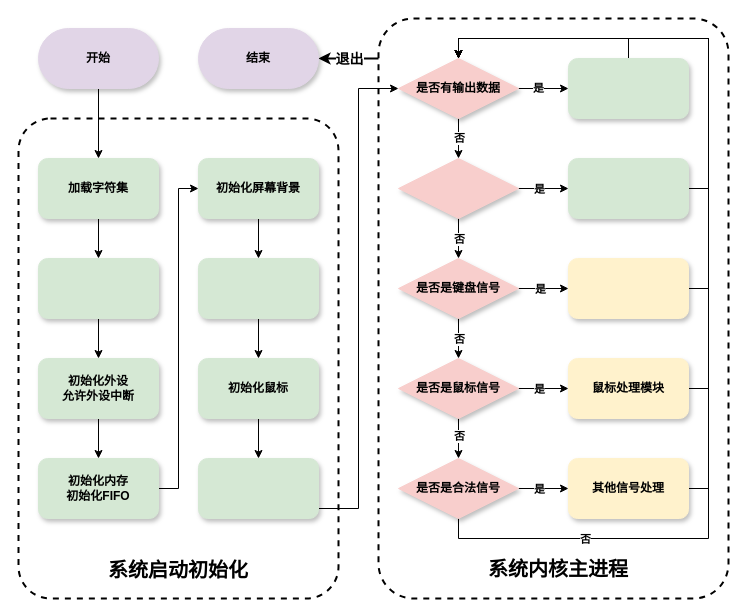
The diagram is 746 pixels wide and 616 high, and some of its shapes have lost their labels. The centre of each missing label's shape, as x and y in pixels:
"初始化 GDT&IDT&PIC" goes at point 99,290.
"初始化控制台窗口" goes at point 259,290.
"向外设发送数据" goes at point 629,90.
"启动计时器 显示画面" goes at point 259,490.
"是否收到信号" goes at point 459,190.
"进程休眠" goes at point 629,190.
"键盘处理模块" goes at point 629,290.
